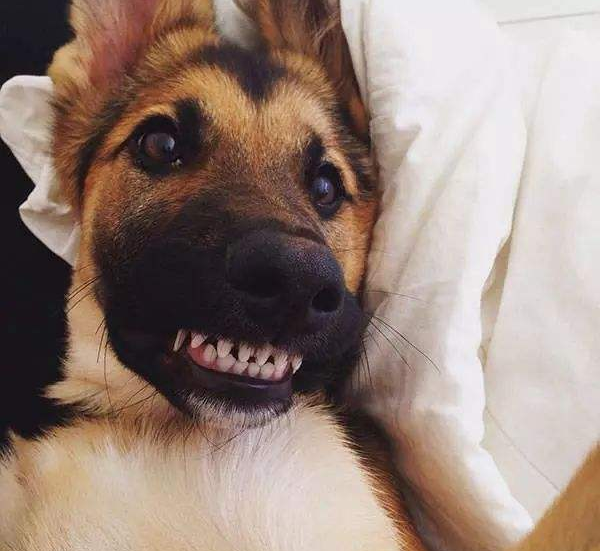nose: (224, 226, 352, 324)
